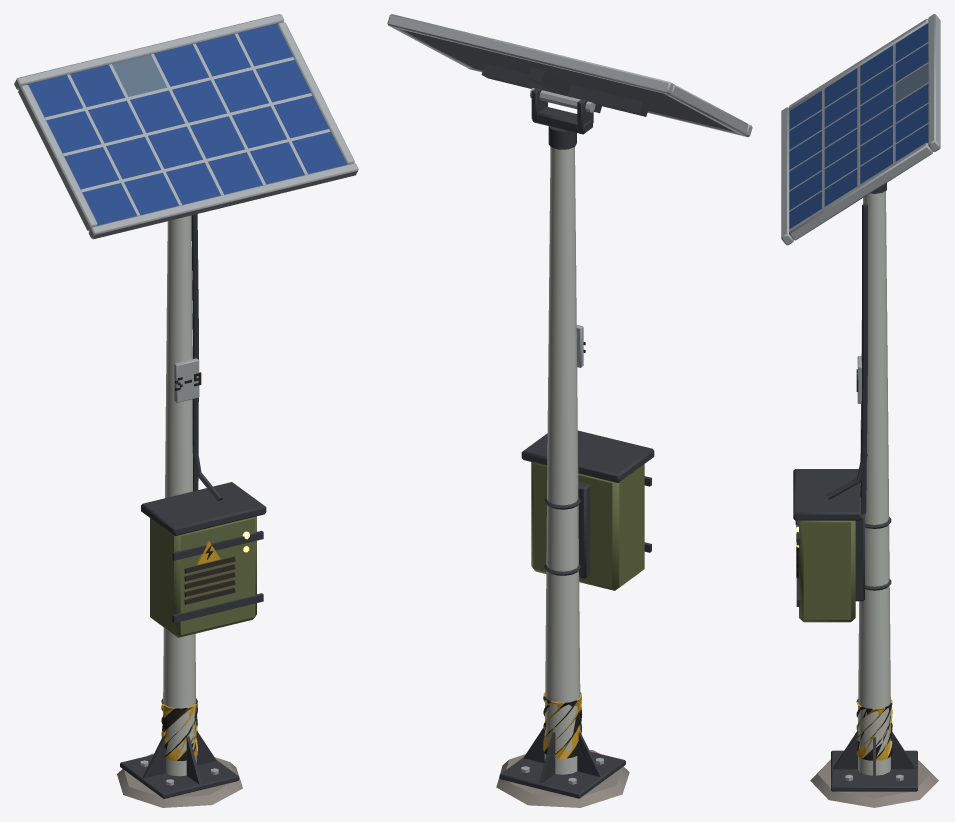
The model's file is deco_solar_pole.fbx.
3 views of the same model, side by side, from view 1: azimuth 30°, elevation 25°; view 2: azimuth 150°, elevation 25°; view 3: azimuth 270°, elevation 25° (orthographic). The views are drawn at different scales.
Parts seen in each view (by area): view 1: Solar_Pole_Panel, Solar_Pole_Pole, Solar_Pole_Battery; view 2: Solar_Pole_Pole, Solar_Pole_Panel, Solar_Pole_Battery; view 3: Solar_Pole_Panel, Solar_Pole_Pole, Solar_Pole_Battery.
Part boxes in pixels (box(x1,y1,x2,y2)): Solar_Pole_Panel: box(14, 14, 358, 239); Solar_Pole_Pole: box(117, 214, 242, 807); Solar_Pole_Battery: box(141, 446, 266, 637); Solar_Pole_Pole: box(496, 146, 629, 807); Solar_Pole_Panel: box(387, 14, 752, 149); Solar_Pole_Battery: box(521, 430, 654, 590); Solar_Pole_Panel: box(781, 14, 940, 245); Solar_Pole_Pole: box(810, 191, 938, 807); Solar_Pole_Battery: box(793, 454, 891, 622).
Bounding box in the file's own units: 160 × 411 × 84.44.
